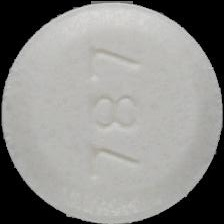43353-833: (0, 0, 224, 224)
